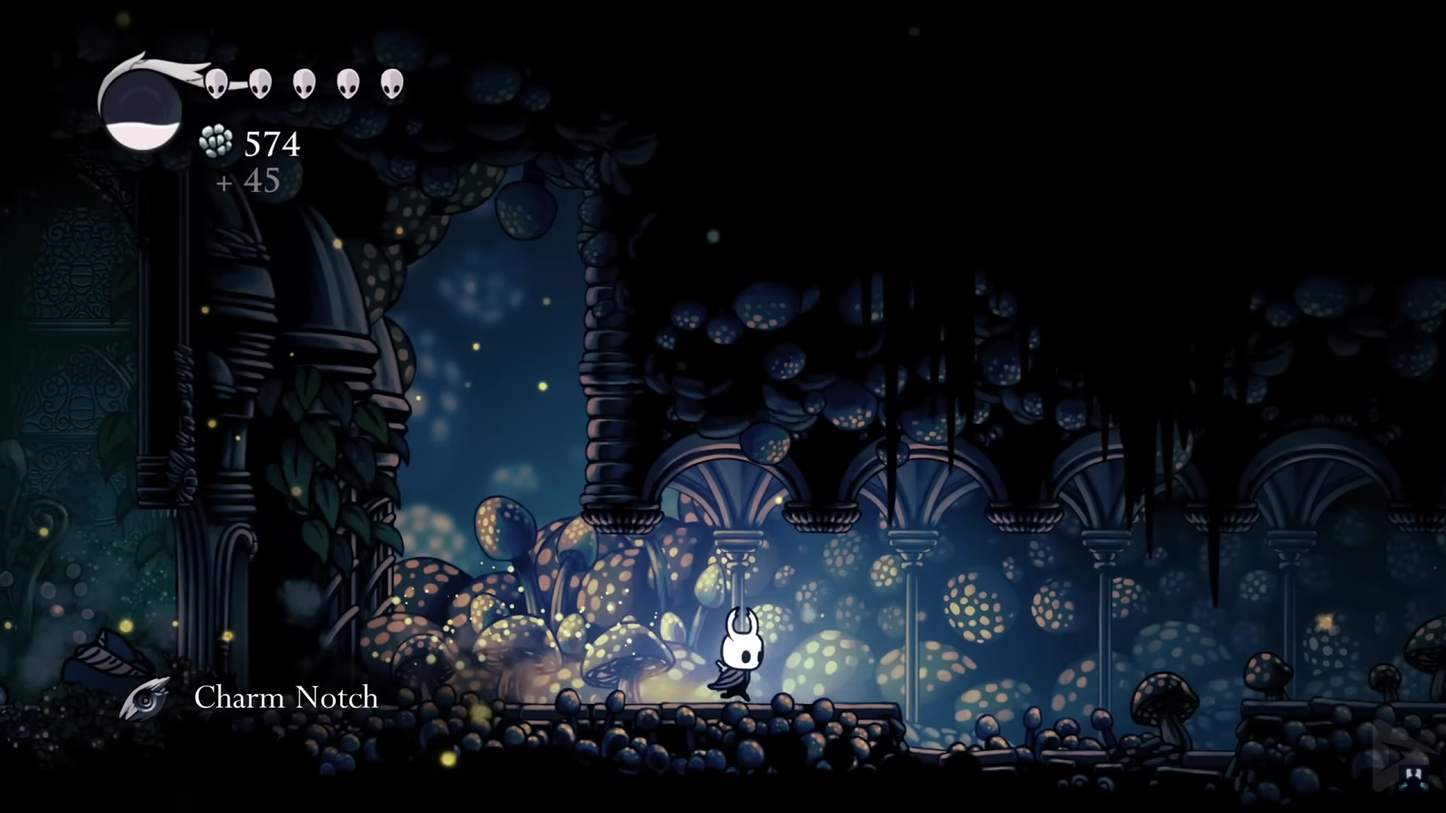HK: (710, 604, 768, 705)
